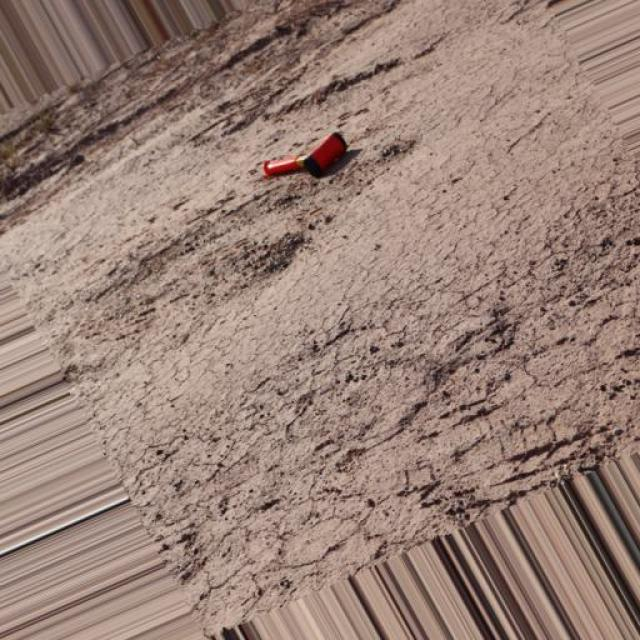mallet: (262, 130, 348, 179)
